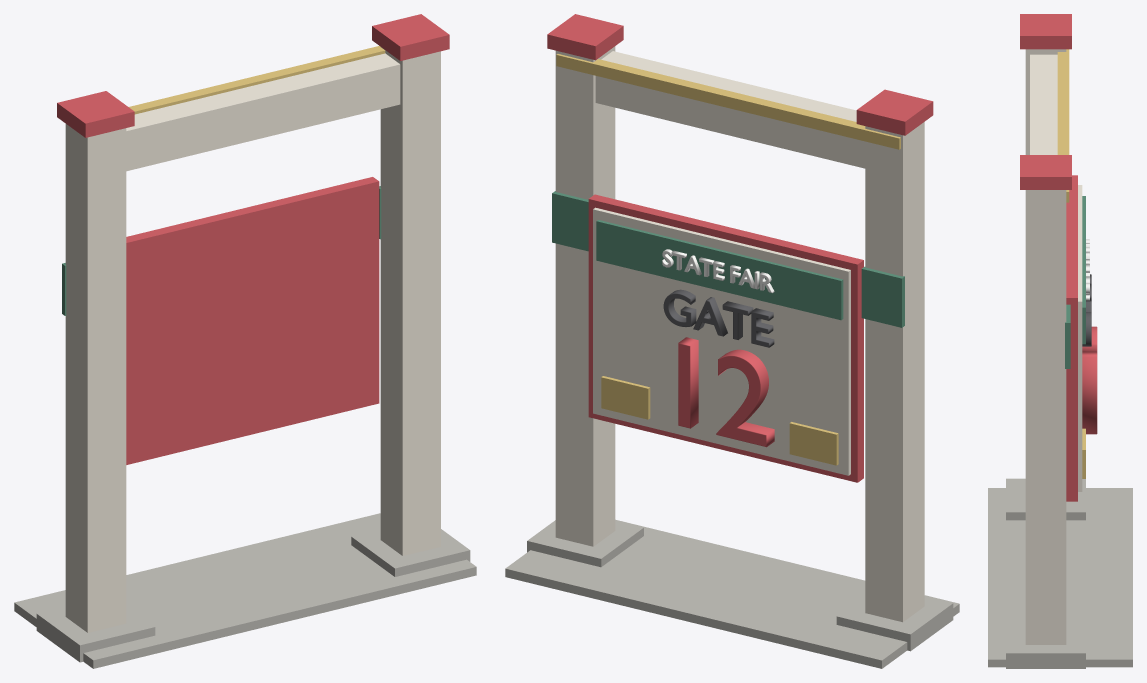
File: state-fair-gate-12.glb
3 renders of one model, left to right at view 1: azimuth 30°, elevation 25°; view 2: azimuth 150°, elevation 25°; view 3: azimuth 270°, elevation 25°, orthographic. The views are drawn at different scales.
Parts seen in each view (by area): view 1: SFG_SignBack, SFG_PostL, SFG_PostR, SFG_Pad, SFG_HeaderBeam, SFG_FootingL, SFG_FootingR, SFG_PostCapL, SFG_PostCapR, SFG_HeaderAccent; view 2: SFG_SignFace, SFG_PostL, SFG_Pad, SFG_PostR, SFG_HeaderBeam, SFG_Ribbon, SFG_SignBack, SFG_HeaderAccent, SFG_GateNumber, SFG_FootingL, SFG_GateLabel, SFG_FootingR (+7 smaller); view 3: SFG_PostR, SFG_Pad, SFG_SignBack, SFG_FootingR, SFG_HeaderBeam, SFG_PostCapL, SFG_PostCapR, SFG_GateNumber, SFG_SignFace, SFG_HeaderAccent, SFG_FootingL, SFG_PostL (+4 smaller).
Part boxes in pixels (left/top/right/bottom): SFG_SignBack: left=126, top=177, right=379, bottom=464; SFG_PostL: left=65, top=124, right=126, bottom=632; SFG_PostR: left=380, top=47, right=440, bottom=555; SFG_Pad: left=14, top=513, right=476, bottom=668; SFG_HeaderBeam: left=126, top=53, right=400, bottom=171; SFG_FootingL: left=36, top=606, right=155, bottom=662; SFG_FootingR: left=351, top=529, right=470, bottom=576; SFG_PostCapL: left=57, top=91, right=134, bottom=137; SFG_PostCapR: left=372, top=14, right=449, bottom=60; SFG_HeaderAccent: left=129, top=46, right=385, bottom=114; SFG_SignFace: left=593, top=207, right=850, bottom=475; SFG_PostL: left=865, top=122, right=924, bottom=622; SFG_Pad: left=505, top=519, right=959, bottom=668; SFG_PostR: left=555, top=46, right=615, bottom=546; SFG_HeaderBeam: left=595, top=51, right=865, bottom=168; SFG_Ribbon: left=596, top=220, right=843, bottom=320; SFG_SignBack: left=588, top=194, right=863, bottom=482; SFG_HeaderAccent: left=556, top=54, right=900, bottom=149; SFG_GateNumber: left=678, top=337, right=774, bottom=447; SFG_FootingL: left=836, top=596, right=953, bottom=651; SFG_GateLabel: left=663, top=289, right=774, bottom=347; SFG_FootingR: left=527, top=520, right=643, bottom=567; SFG_PostR: left=1025, top=190, right=1066, bottom=644; SFG_Pad: left=988, top=488, right=1132, bottom=667; SFG_SignBack: left=1066, top=175, right=1077, bottom=501; SFG_FootingR: left=1006, top=619, right=1085, bottom=668; SFG_HeaderBeam: left=1030, top=54, right=1057, bottom=154; SFG_PostCapL: left=1020, top=14, right=1071, bottom=49; SFG_PostCapR: left=1020, top=155, right=1071, bottom=189; SFG_GateNumber: left=1082, top=326, right=1097, bottom=434; SFG_SignFace: left=1078, top=185, right=1082, bottom=491; SFG_HeaderAccent: left=1057, top=49, right=1069, bottom=202; SFG_FootingL: left=1006, top=478, right=1085, bottom=520; SFG_PostL: left=1025, top=49, right=1066, bottom=154.
Bounding box in the file's own units: 2.85 × 3.7 × 1.
